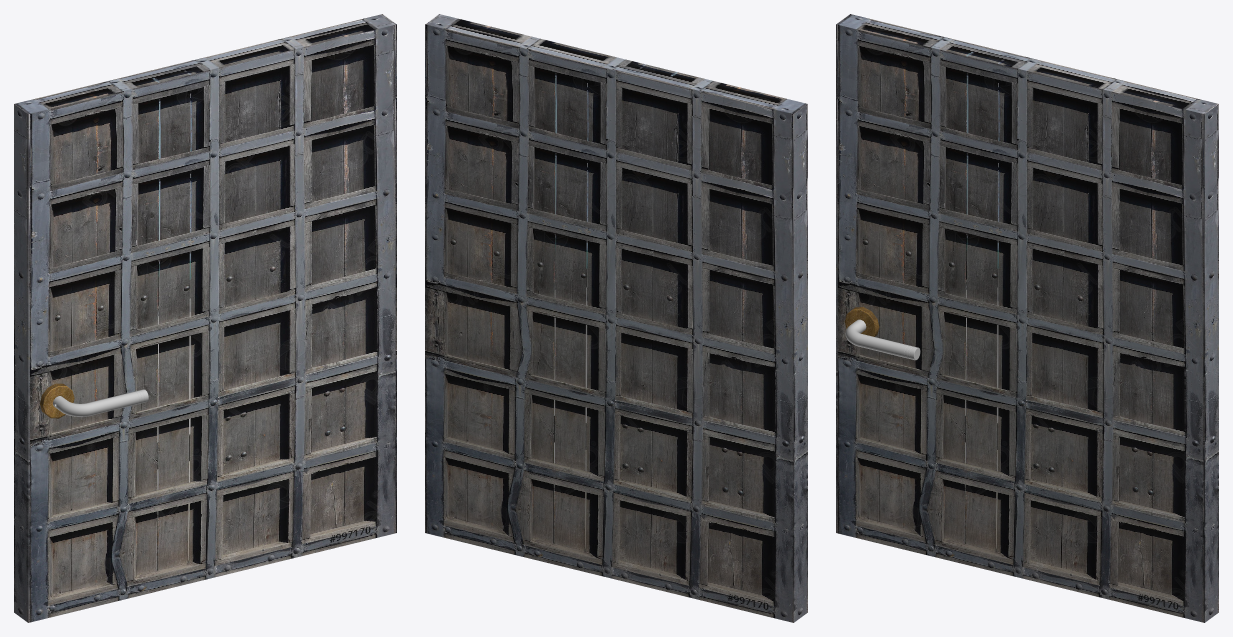
The model's file is puerta.obj.
The picture shows the model from 3 angles, left to right: view 1: azimuth 30°, elevation 25°; view 2: azimuth 150°, elevation 25°; view 3: azimuth 330°, elevation 25°; orthographic projection.
Visible parts, largest first — view 1: pCube35; view 2: pCube35; view 3: pCube35.
Boxes of the visible parts, box(x1,y1,x2,y2) form: pCube35: box(14, 14, 396, 622); pCube35: box(425, 14, 807, 622); pCube35: box(836, 14, 1218, 622).
Size of the model in its own units: 4.5 by 5.93 by 0.7515.
